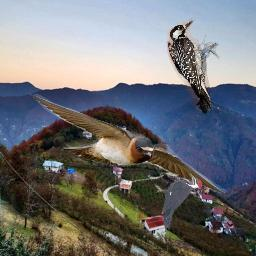Swallow: (26, 90, 227, 194)
Woodpecker: (163, 17, 225, 114), (154, 173, 203, 230)
